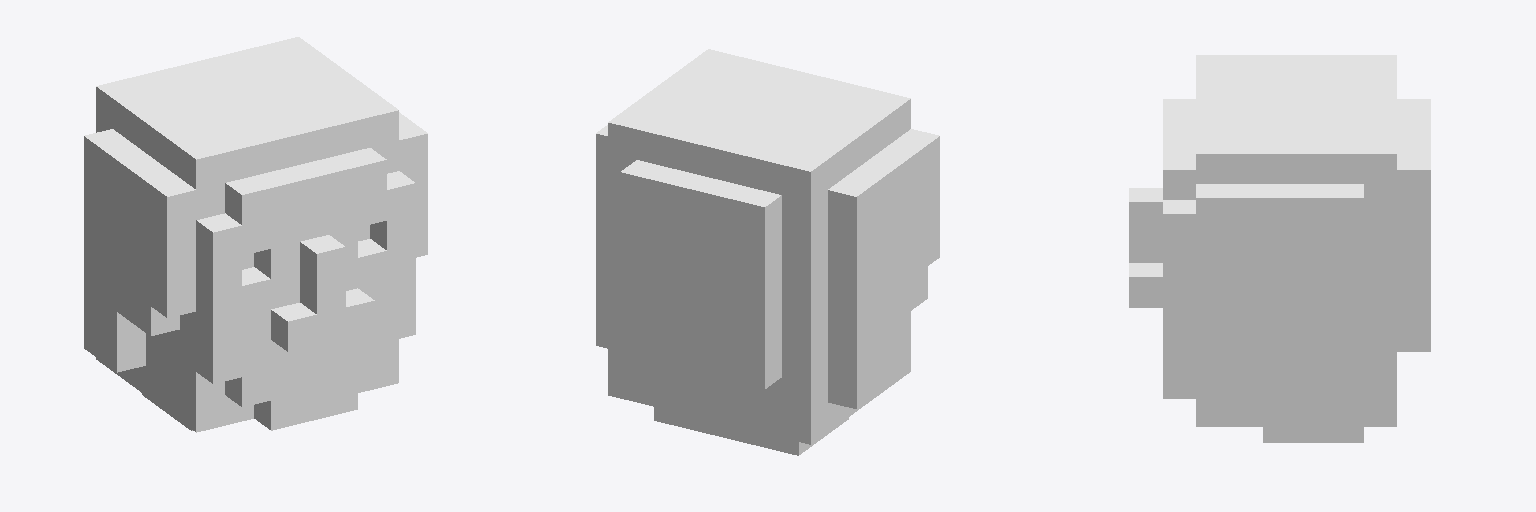
The model's file is head_001.obj.
3 views of the same model, side by side, from view 1: azimuth 30°, elevation 25°; view 2: azimuth 150°, elevation 25°; view 3: azimuth 270°, elevation 25° (orthographic).
Size of the model in its own units: 9 by 10 by 9.